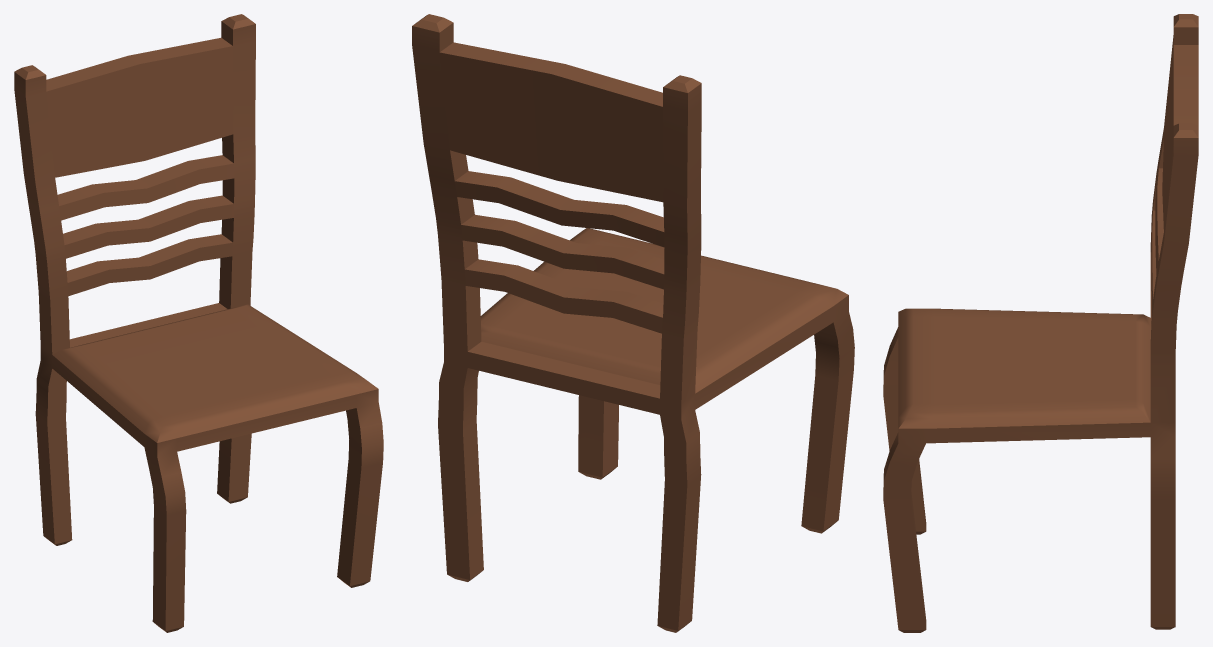
Rendered from SM_Chaise.fbx.
3 views of the same model, side by side, from view 1: azimuth 30°, elevation 25°; view 2: azimuth 150°, elevation 25°; view 3: azimuth 270°, elevation 25° (orthographic). The views are drawn at different scales.
Parts seen in each view (by area): view 1: SM_Chaise; view 2: SM_Chaise; view 3: SM_Chaise.
Part boxes in pixels (x1,y1,x2,y2): SM_Chaise: (14,14,383,632); SM_Chaise: (412,14,854,632); SM_Chaise: (883,14,1198,632).
Size of the model in its own units: 56.3 by 110 by 61.66.
